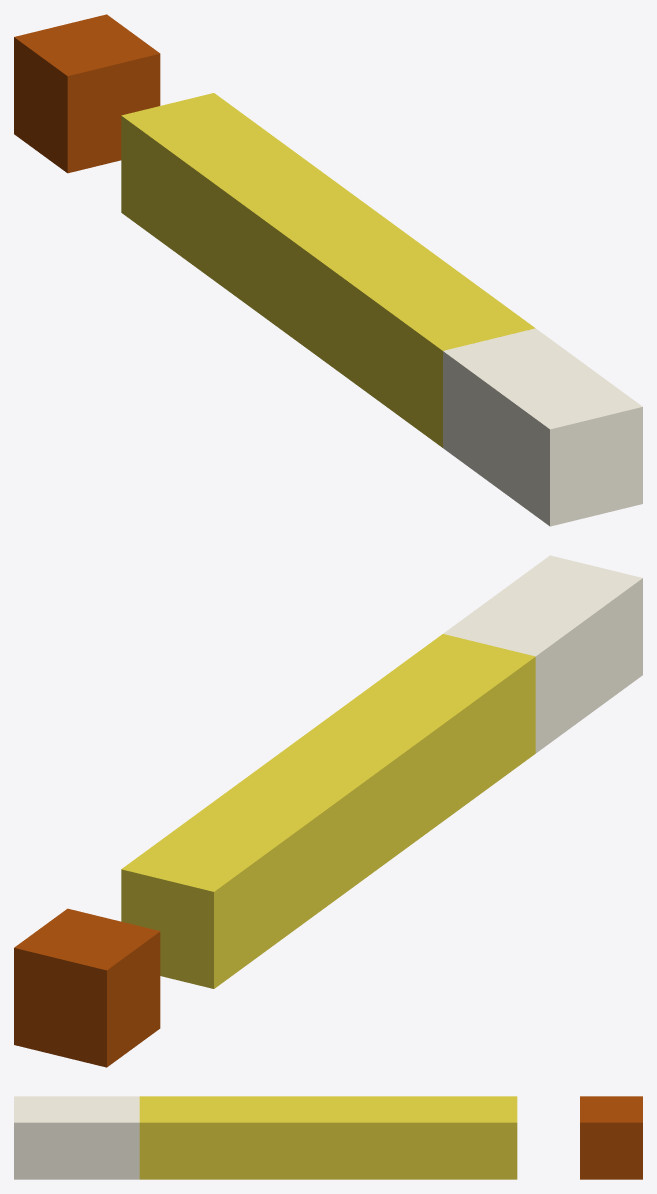
The model's file is projectile_default.glb.
3 renders of one model, top to bottom at view 1: azimuth 30°, elevation 25°; view 2: azimuth 150°, elevation 25°; view 3: azimuth 270°, elevation 25°, orthographic. The views are drawn at different scales.
Visible parts, largest first — view 1: Cube, Cube.001; view 2: Cube, Cube.001; view 3: Cube, Cube.001.
Part boxes in pixels (x1,y1,x2,y2): Cube: (121,93,642,526); Cube.001: (14,14,160,173); Cube: (121,555,642,988); Cube.001: (14,908,160,1067); Cube: (14,1096,517,1179); Cube.001: (580,1096,642,1179).
Size of the model in its own units: 0.06 by 0.06 by 0.6.
